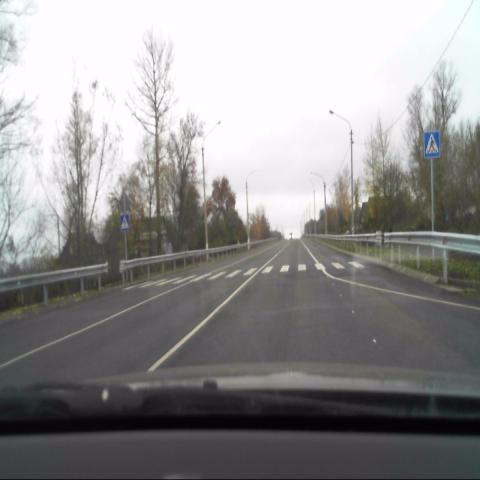5_19_1: (424, 131, 440, 159), (121, 214, 129, 231)
